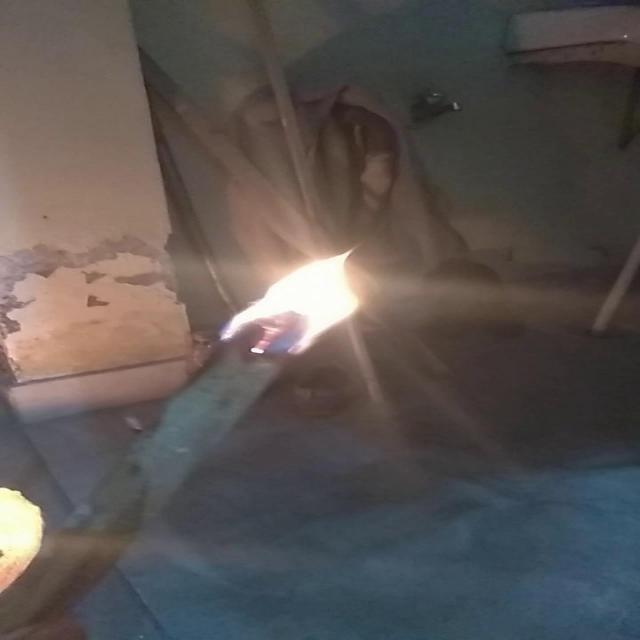fire: (199, 240, 413, 362)
